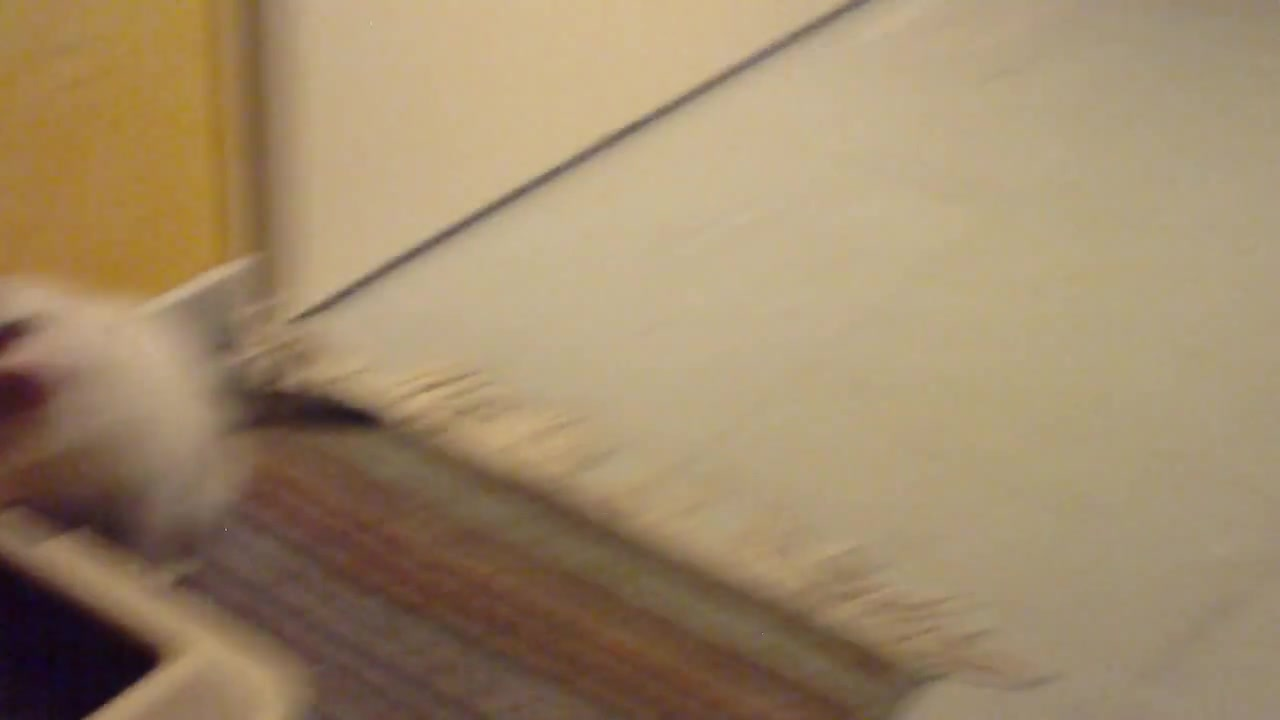cat: (3, 270, 384, 587)
